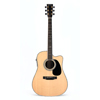guitar: (31, 4, 68, 97)
